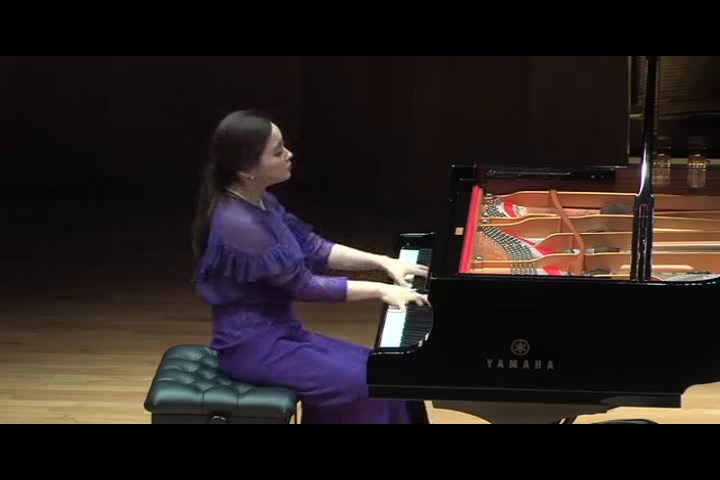keyboard: (371, 235, 442, 359)
